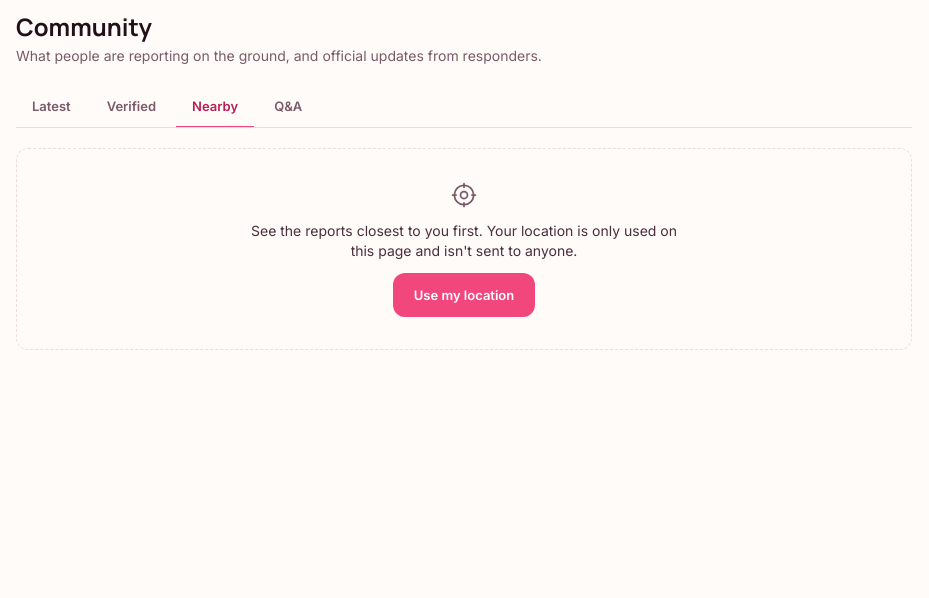
Test: CommunityPage — Nearby › asks for nothing until pressed, then lists nearest first with each distance
The image size is (929, 598).
Click the button named "Use my location" at [464, 295], box [393, 273, 535, 317]
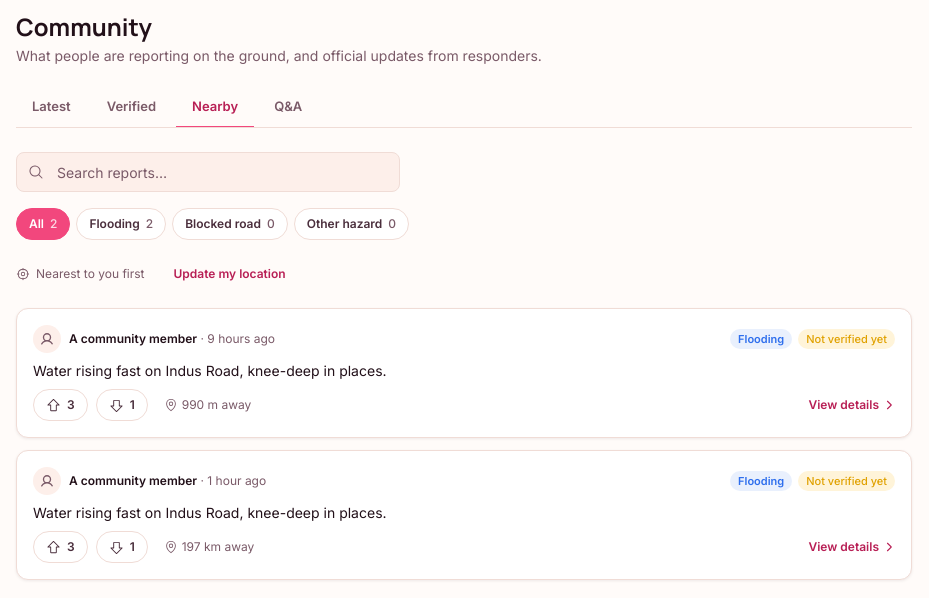
Result: the text "990 m away" is shown at [164, 397, 251, 413]
Result: the text "197 km away" is shown at [164, 539, 254, 555]
Result: the text "Nearest to you first" is shown at [16, 266, 144, 282]
